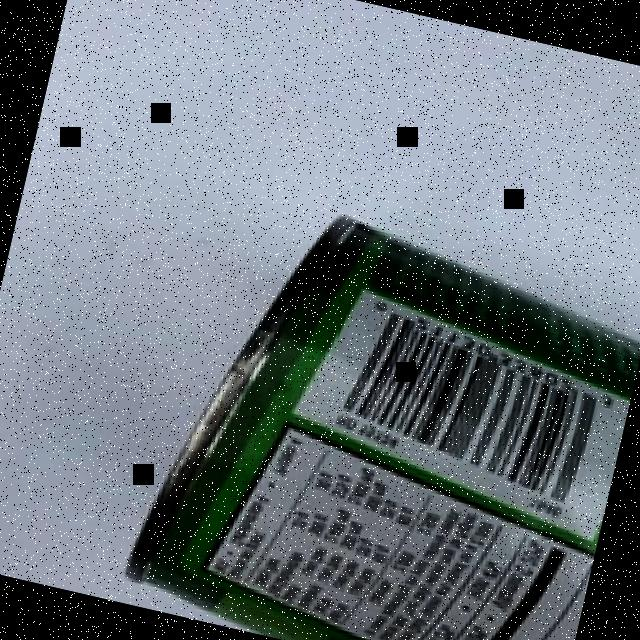can: (112, 174, 640, 640)
